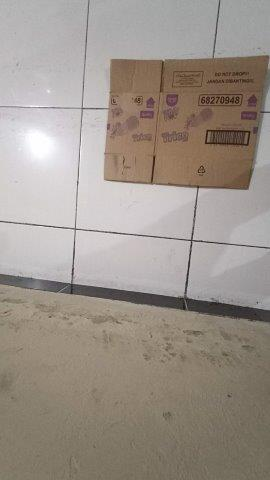kardus: (106, 57, 268, 187)
